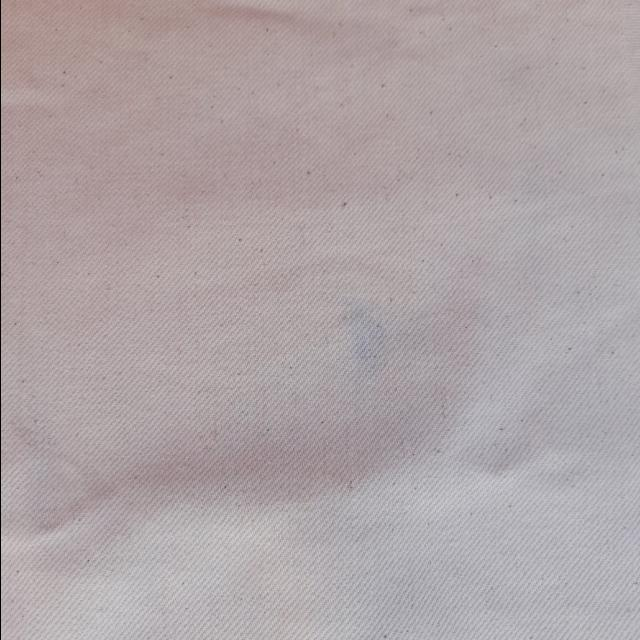taaaches: (314, 289, 418, 399)
